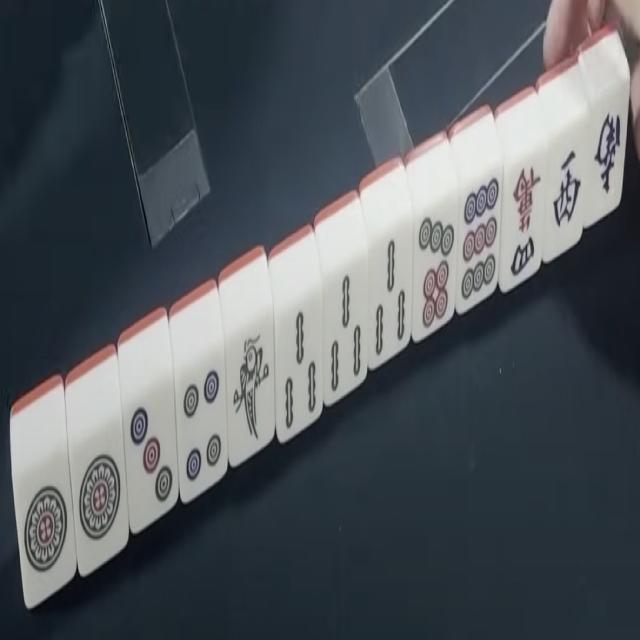m4: (504, 152, 546, 288)
s1: (228, 319, 272, 454)
s3: (279, 300, 326, 442), (326, 265, 372, 395), (370, 232, 412, 362)
south: (590, 96, 624, 212)
t1: (68, 440, 130, 574), (10, 463, 76, 588)
t3: (124, 402, 178, 522)
t4: (180, 369, 228, 499)
t7: (416, 202, 460, 336)
t9: (456, 162, 501, 307)
west: (544, 144, 586, 244)
